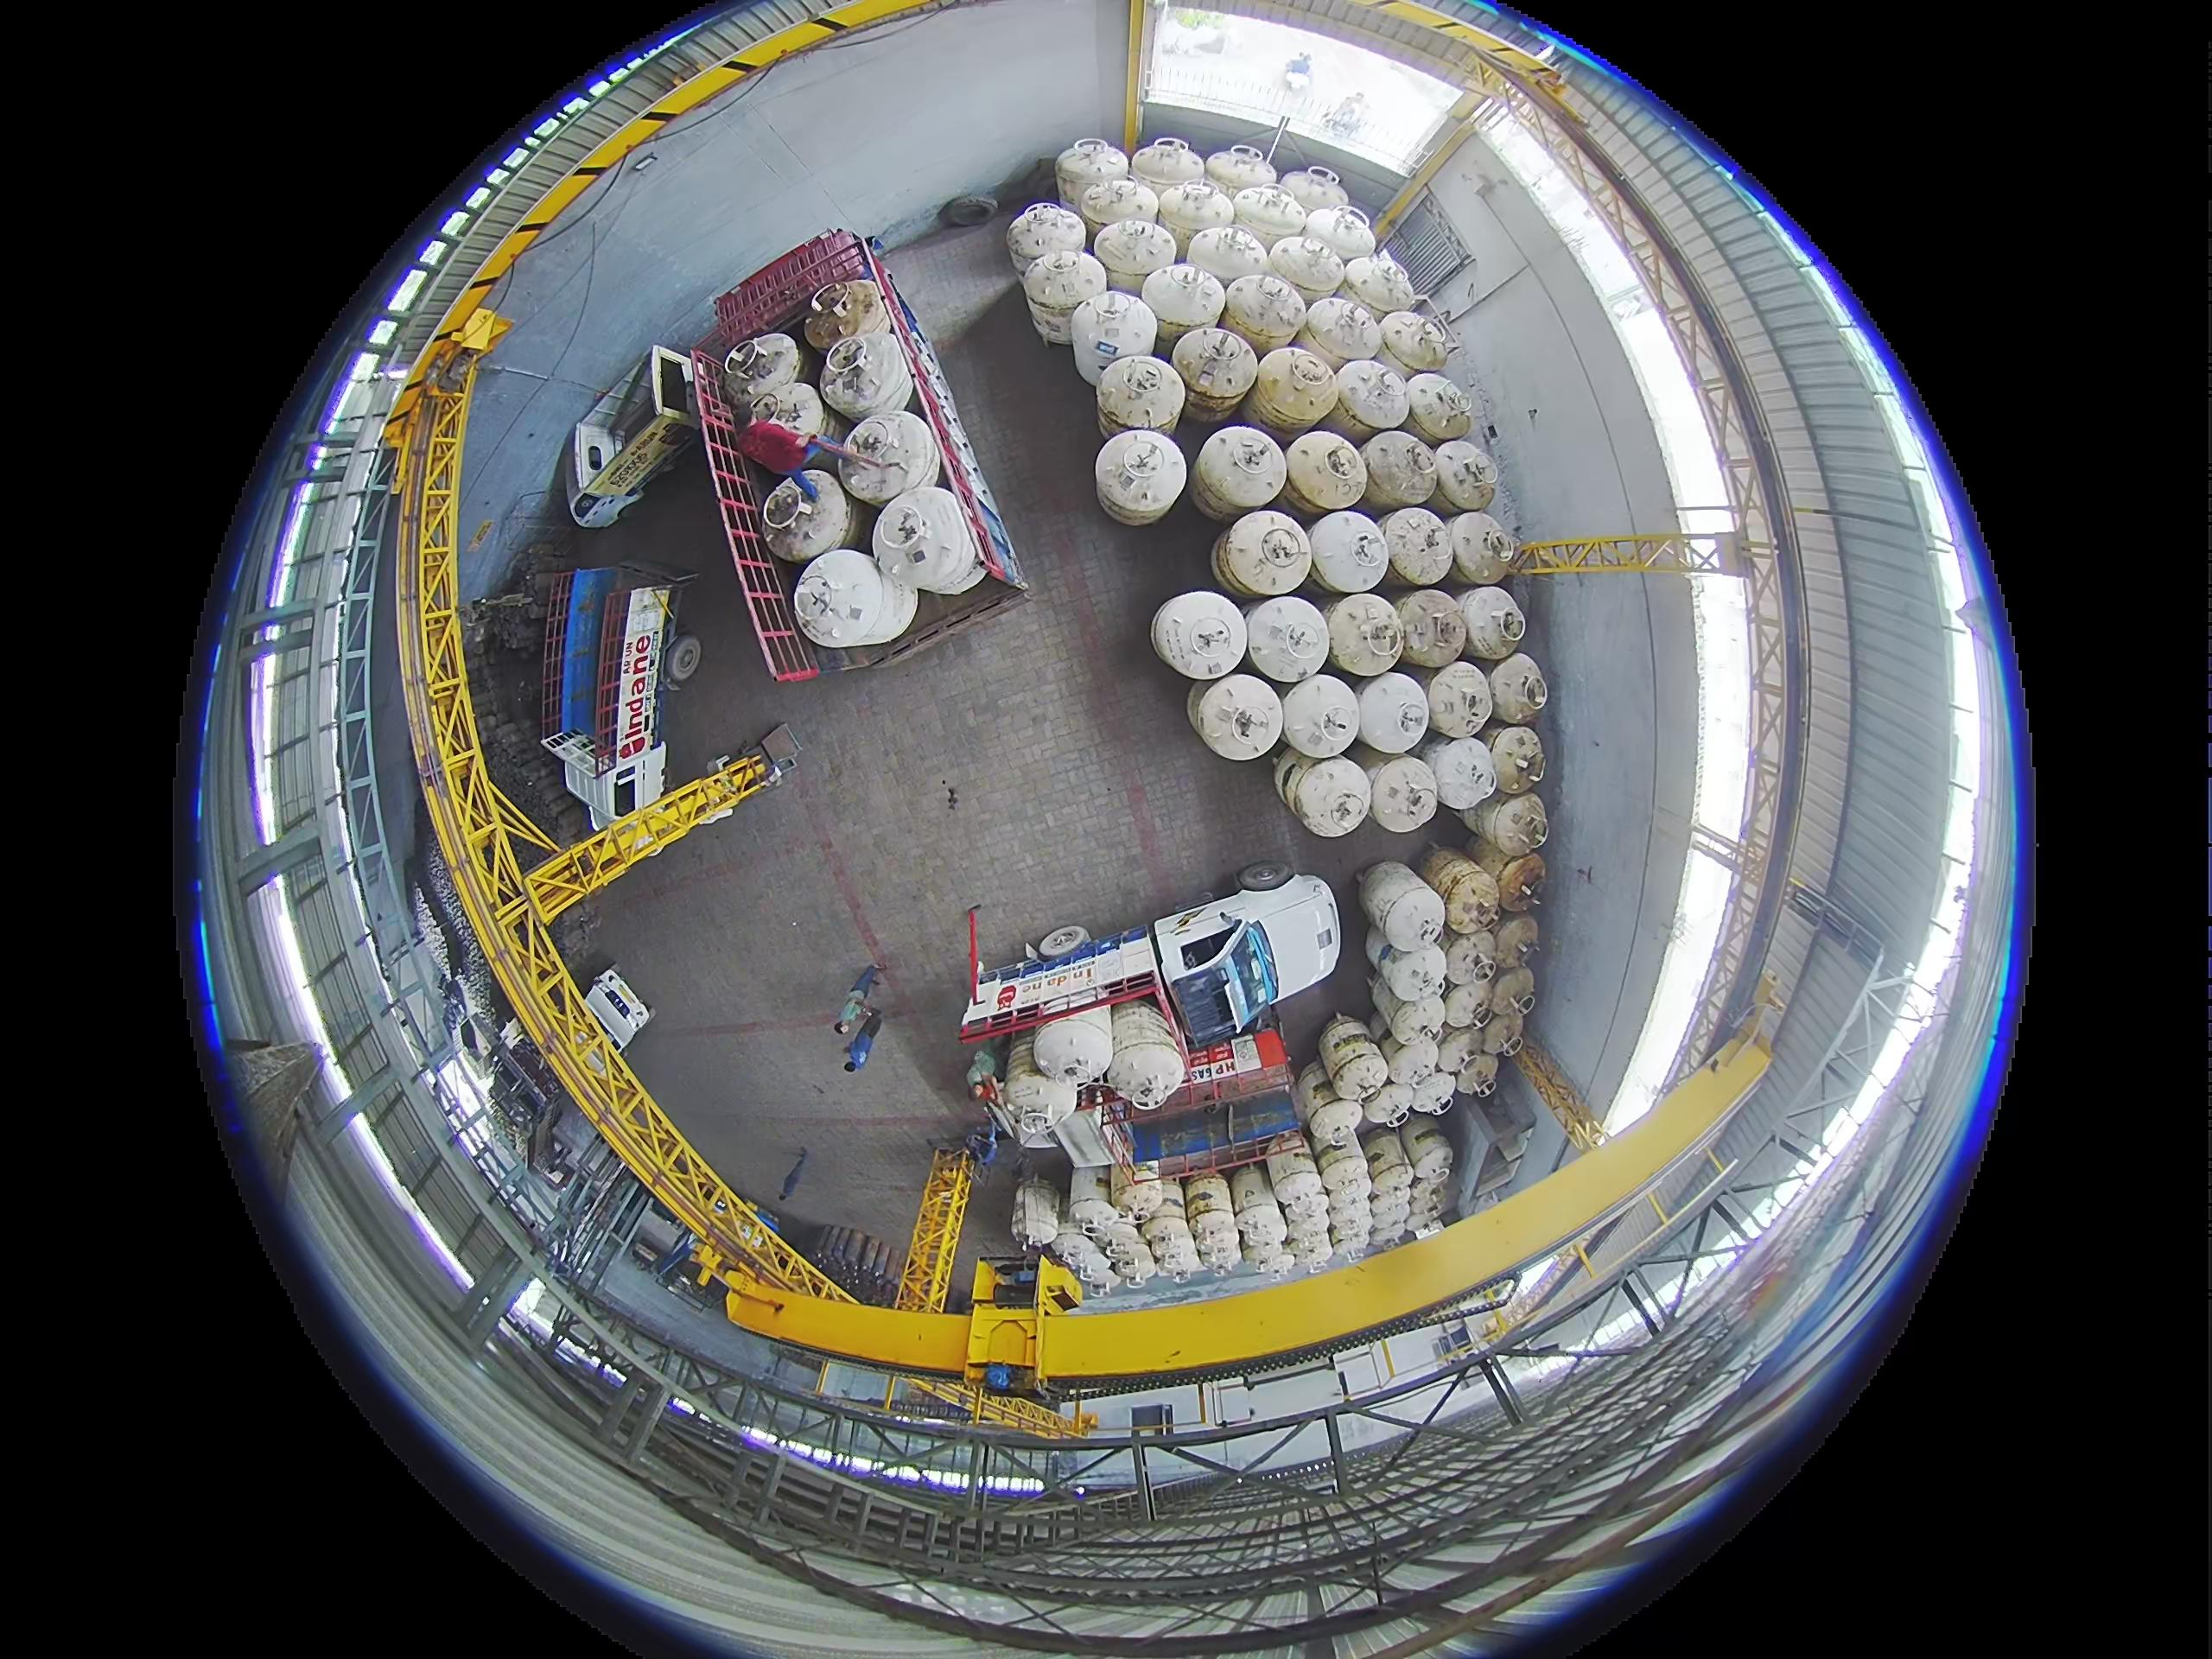cylinder: (939, 937, 1531, 1077), (961, 922, 1298, 1112), (1145, 590, 1249, 680), (1095, 429, 1187, 526), (821, 330, 919, 420), (1103, 1001, 1182, 1112), (1195, 425, 1287, 518), (1189, 673, 1284, 762), (760, 472, 852, 563), (1216, 509, 1310, 598), (1357, 860, 1450, 948), (1002, 1035, 1079, 1141), (1242, 594, 1331, 684), (1251, 346, 1341, 435), (1171, 326, 1257, 418), (1069, 291, 1152, 383), (1278, 673, 1363, 760), (1284, 430, 1369, 518), (1306, 509, 1392, 595), (1141, 262, 1225, 349), (1221, 271, 1308, 356), (1096, 353, 1181, 439), (1324, 593, 1407, 677), (1420, 846, 1505, 927), (1287, 756, 1373, 836), (1315, 1014, 1388, 1107), (1361, 429, 1439, 513), (1032, 1005, 1112, 1084), (1354, 671, 1430, 754), (721, 331, 802, 408), (1155, 179, 1236, 256), (1092, 219, 1173, 295), (1393, 588, 1470, 668), (1302, 295, 1383, 370), (1332, 358, 1410, 435), (1382, 505, 1457, 586), (1188, 221, 1273, 292), (1424, 734, 1499, 811), (1425, 659, 1497, 739), (1366, 755, 1440, 832), (1465, 788, 1548, 857), (1056, 137, 1129, 213), (809, 277, 888, 347), (1007, 200, 1083, 272), (1265, 232, 1344, 301), (745, 379, 825, 447), (1457, 585, 1529, 660), (1449, 510, 1521, 584), (1079, 176, 1154, 247), (1231, 184, 1309, 251), (1128, 137, 1205, 206), (1377, 310, 1452, 378), (1432, 439, 1502, 512), (1402, 372, 1471, 444), (1301, 204, 1377, 269), (1340, 251, 1416, 315), (1376, 944, 1446, 1010), (1484, 725, 1547, 796), (1485, 652, 1549, 721), (1467, 828, 1541, 885), (1205, 145, 1277, 201), (1051, 1231, 1116, 1294), (1011, 1172, 1062, 1250), (1380, 1035, 1441, 1099), (1279, 167, 1350, 222), (1019, 288, 1078, 351), (1292, 1059, 1341, 1132), (1443, 930, 1502, 990), (1144, 1219, 1202, 1281), (1186, 1212, 1242, 1274), (1306, 1093, 1366, 1149), (1400, 1118, 1453, 1180), (1233, 1205, 1287, 1266), (1388, 995, 1445, 1050), (1486, 964, 1535, 1026), (1365, 973, 1413, 1036), (1068, 1196, 1127, 1247), (1325, 1187, 1374, 1248), (1494, 855, 1548, 910), (1266, 1146, 1319, 1200), (1441, 979, 1497, 1032), (1360, 1128, 1409, 1187), (1316, 1151, 1371, 1201), (1272, 750, 1314, 815), (1109, 1160, 1160, 1214), (1492, 916, 1541, 971), (1282, 1221, 1334, 1272), (1094, 1216, 1146, 1267), (1229, 1164, 1279, 1217), (1183, 1174, 1236, 1224), (1435, 1024, 1485, 1076), (1478, 1010, 1528, 1062), (1069, 1162, 1113, 1218), (1279, 1182, 1331, 1229), (1404, 1183, 1449, 1235), (1365, 1188, 1411, 1238), (1006, 1036, 1046, 1093), (1144, 1173, 1187, 1224), (1453, 1050, 1499, 1097), (1108, 1245, 1158, 1287), (1037, 925, 1088, 956), (1363, 925, 1395, 973)
truck: (686, 230, 1024, 681), (537, 570, 688, 828)
